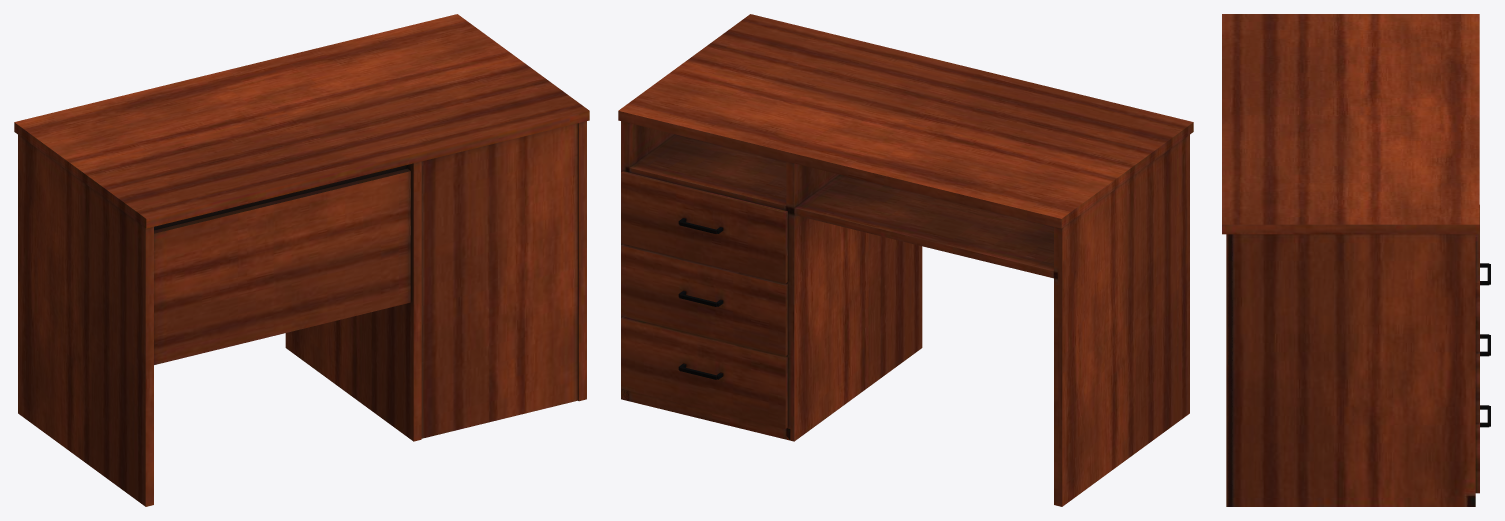
File: desk_pedestal_web.glb
The picture shows the model from 3 angles, left to right: view 1: azimuth 30°, elevation 25°; view 2: azimuth 150°, elevation 25°; view 3: azimuth 270°, elevation 25°; orthographic projection. The views are drawn at different scales.
Visible parts, largest first — view 1: DeskPedestal_Mesh; view 2: DeskPedestal_Mesh; view 3: DeskPedestal_Mesh.
Boxes of the visible parts, box(x1,y1,x2,y2) form: DeskPedestal_Mesh: box(14, 14, 589, 506); DeskPedestal_Mesh: box(618, 14, 1193, 506); DeskPedestal_Mesh: box(1222, 14, 1490, 506).
Bounding box in the file's own units: 1.2 × 0.75 × 0.647.
1 material, 1 textured.
